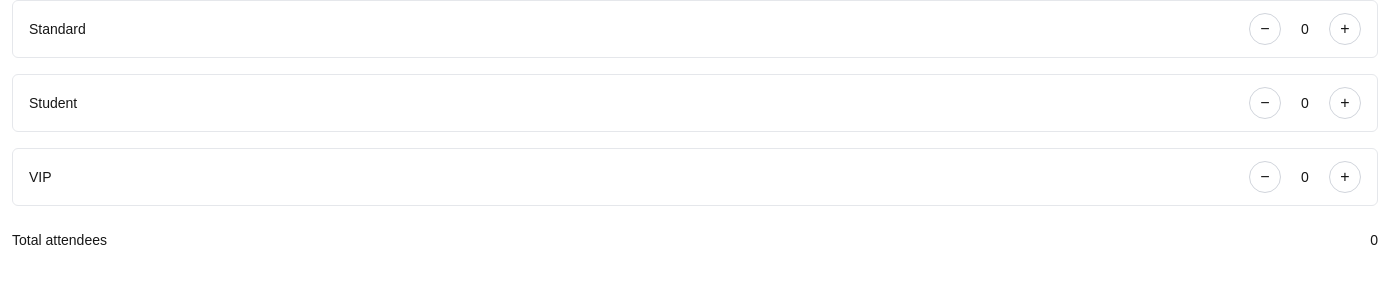
Test: AttendeesSection › increments and decrements a ticket type
Click the button with test id "ticket-standard-plus".
click(1345, 29)  # box left=1329, top=13, right=1361, bottom=45
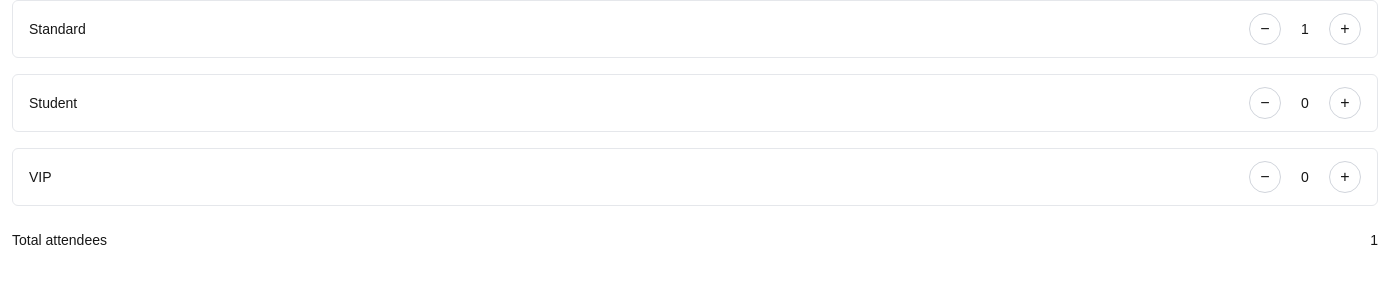
Click the button with test id "ticket-standard-plus".
click(1345, 29)  # box left=1329, top=13, right=1361, bottom=45
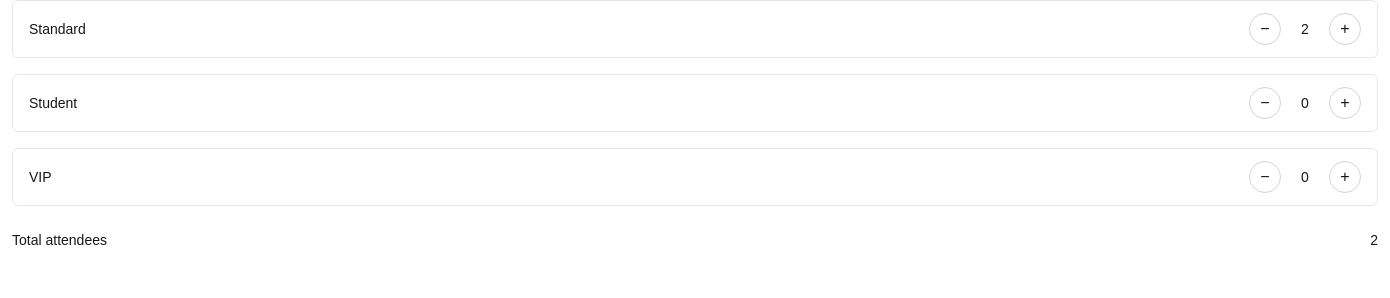
expect the text with test id "ticket-standard-count" reads "2": met, box left=1301, top=21, right=1309, bottom=37
Click the button with test id "ticket-standard-minus".
click(1265, 29)  # box left=1249, top=13, right=1281, bottom=45
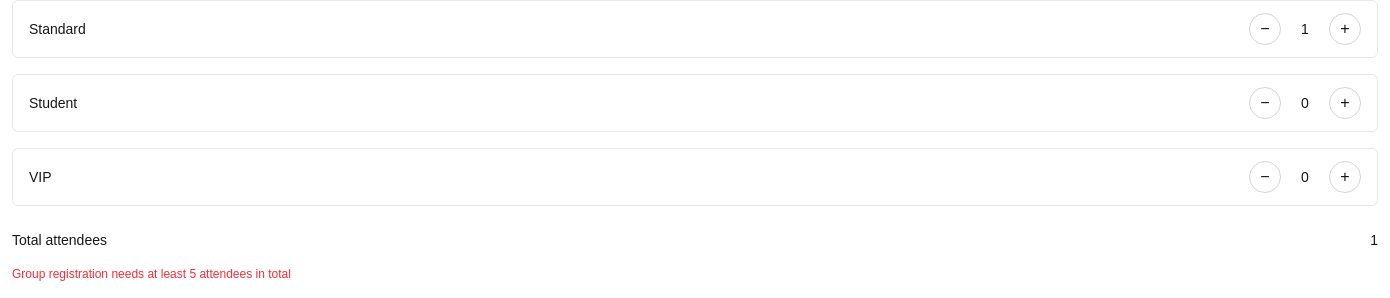
expect the text with test id "ticket-standard-count" reads "1": met, box left=1301, top=21, right=1309, bottom=37
